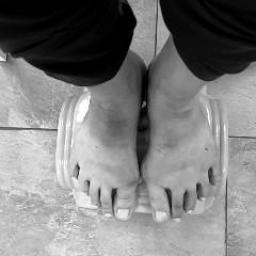Dorsal View -Both Feet-: (47, 23, 238, 240)
